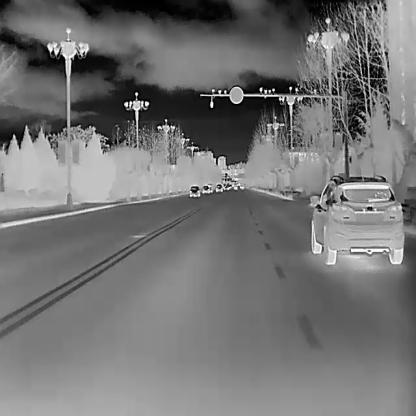car: (309, 174, 403, 264), (188, 185, 200, 197), (201, 186, 209, 194), (215, 184, 222, 192)
